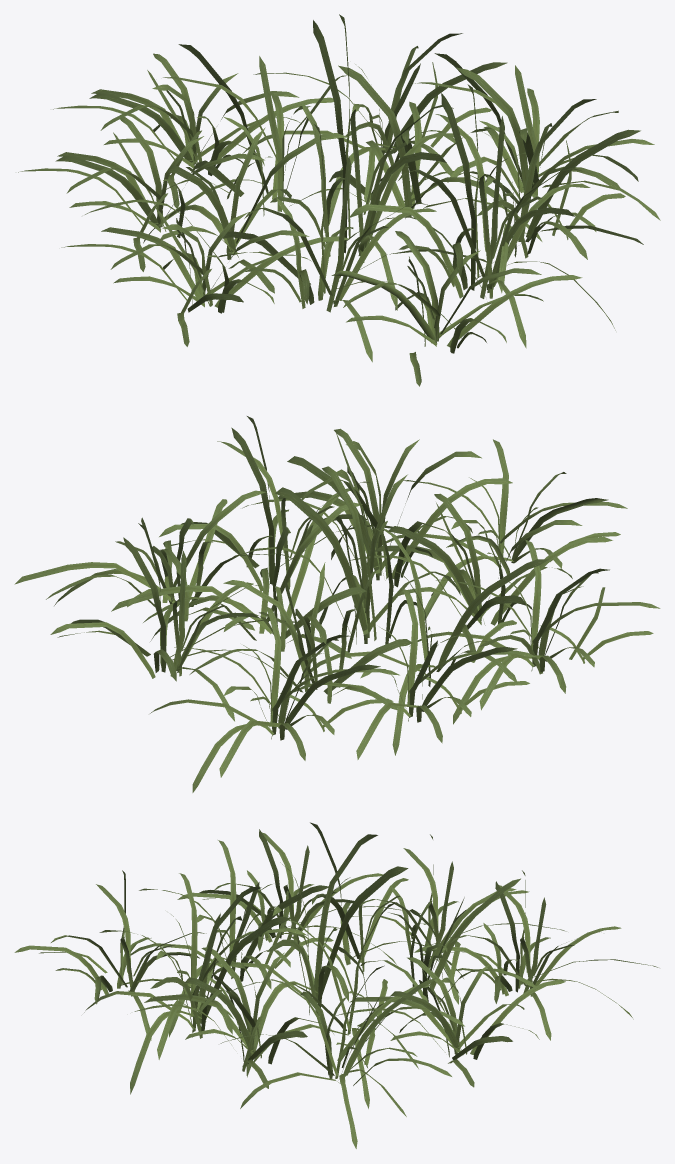
The model's file is Stage_Obj006.fbx.
3 views of the same model, one above another, from view 1: azimuth 30°, elevation 25°; view 2: azimuth 150°, elevation 25°; view 3: azimuth 270°, elevation 25° (orthographic). The views are drawn at different scales.
Visible parts, largest first — view 1: SM_SampleGame_Grass001; view 2: SM_SampleGame_Grass001; view 3: SM_SampleGame_Grass001.
Boxes of the visible parts, x1,y1,x2,y2 form: SM_SampleGame_Grass001: [18, 14, 660, 386]; SM_SampleGame_Grass001: [14, 416, 660, 792]; SM_SampleGame_Grass001: [14, 822, 658, 1148].
Size of the model in its own units: 315 by 125 by 358.
1 material, 1 textured.
